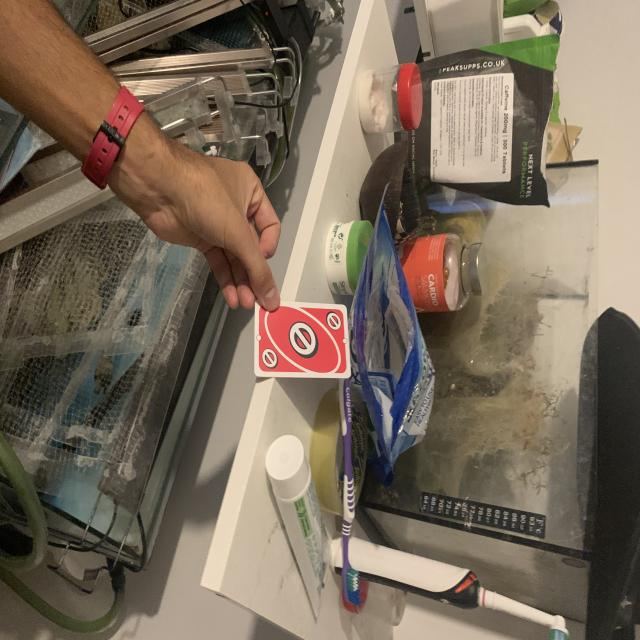lredskip-20: (322, 310, 345, 333)
